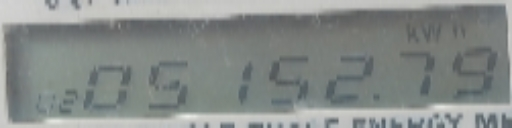0: (78, 55, 128, 128)
1: (225, 49, 259, 119)
2: (325, 35, 373, 114)
5: (255, 44, 325, 114), (141, 46, 198, 117)
7: (389, 44, 439, 105)
9: (439, 39, 509, 114)
d: (368, 85, 389, 105)
